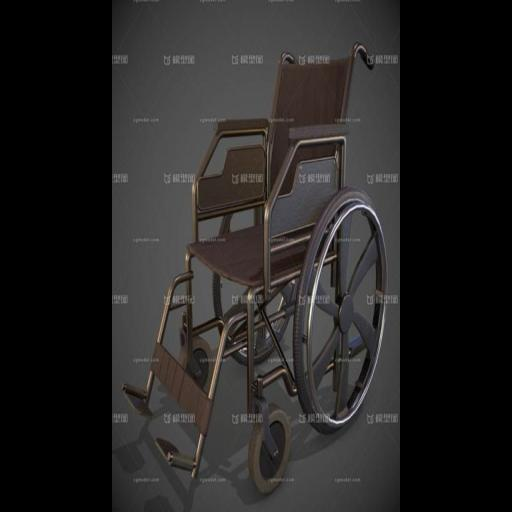cadeira_de_rodas: (117, 27, 384, 503)
